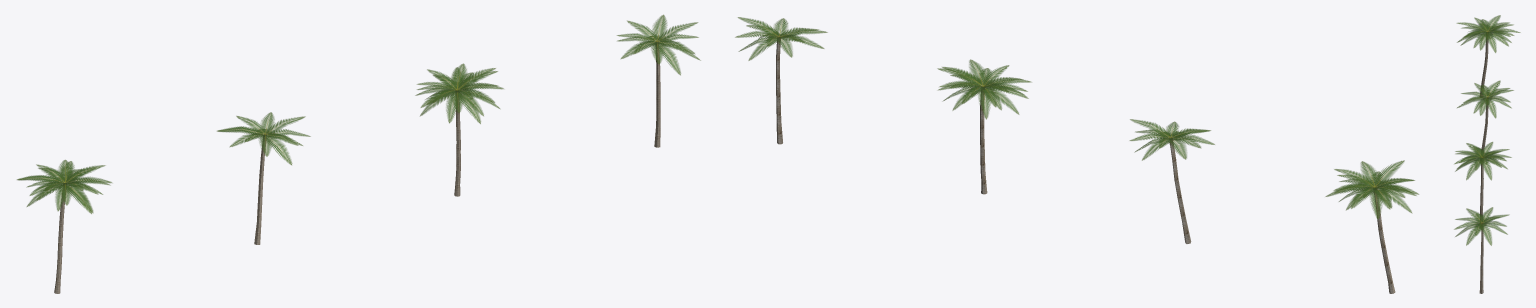
File: tree_palm.glb
3 views of the same model, side by side, from view 1: azimuth 30°, elevation 25°; view 2: azimuth 150°, elevation 25°; view 3: azimuth 270°, elevation 25° (orthographic). The views are drawn at different scales.
Parts seen in each view (by area): view 1: v1_hi_leaf, v0_hi_leaf, v1_lo_leaf, v0_lo_leaf, v0_lo_bark, v1_lo_bark, v0_hi_bark, v1_hi_bark; view 2: v1_hi_leaf, v0_hi_leaf, v1_lo_leaf, v0_lo_leaf, v0_lo_bark, v1_lo_bark, v1_hi_bark, v0_hi_bark; view 3: v0_hi_leaf, v1_hi_leaf, v1_lo_leaf, v0_lo_leaf, v1_lo_bark, v0_hi_bark, v1_hi_bark, v0_lo_bark.
Part boxes in pixels (x1,y1,x2,y2): v1_hi_leaf: (415, 63, 503, 123); v0_hi_leaf: (17, 160, 111, 213); v1_lo_leaf: (617, 14, 700, 75); v0_lo_leaf: (217, 112, 310, 165); v0_lo_bark: (254, 134, 266, 244); v1_lo_bark: (654, 41, 660, 147); v0_hi_bark: (54, 186, 65, 293); v1_hi_bark: (454, 92, 460, 196); v1_hi_leaf: (937, 59, 1031, 119); v0_hi_leaf: (1325, 160, 1418, 219); v1_lo_leaf: (735, 17, 827, 60); v0_lo_leaf: (1129, 119, 1214, 160); v0_lo_bark: (1170, 137, 1191, 243); v1_lo_bark: (776, 36, 782, 144); v1_hi_bark: (980, 87, 987, 194); v0_hi_bark: (1374, 189, 1395, 293); v0_hi_leaf: (1456, 15, 1520, 52); v1_hi_leaf: (1454, 142, 1511, 180); v1_lo_leaf: (1454, 207, 1509, 245); v0_lo_leaf: (1457, 80, 1513, 118); v1_lo_bark: (1479, 229, 1483, 293); v0_hi_bark: (1480, 39, 1488, 97); v1_hi_bark: (1480, 164, 1483, 222); v0_lo_bark: (1481, 97, 1488, 150).
Bounding box in the file's own units: 67.2 × 10.96 × 9.13.
Materials: 2 (2 with a texture image).
